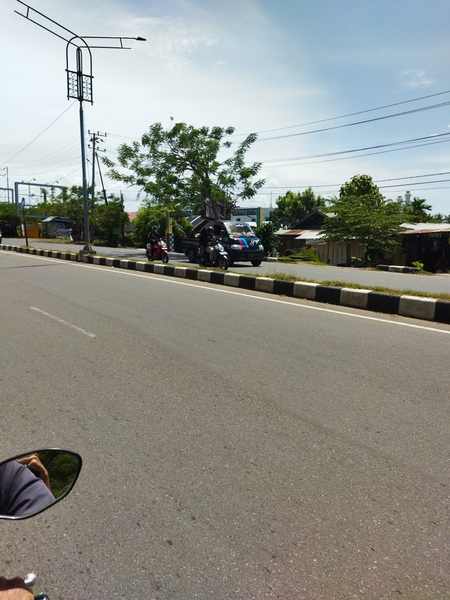car: (187, 217, 268, 269)
motorcycle: (193, 240, 229, 271), (142, 237, 172, 265)
